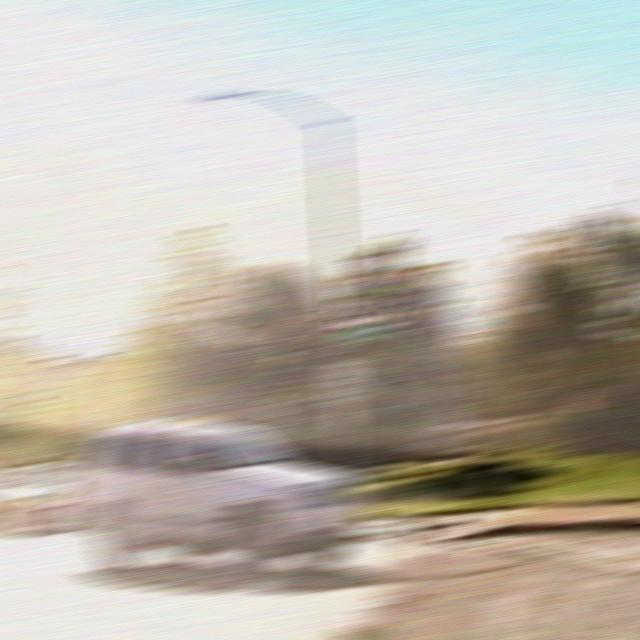speedLimit35: (322, 360, 362, 406)
